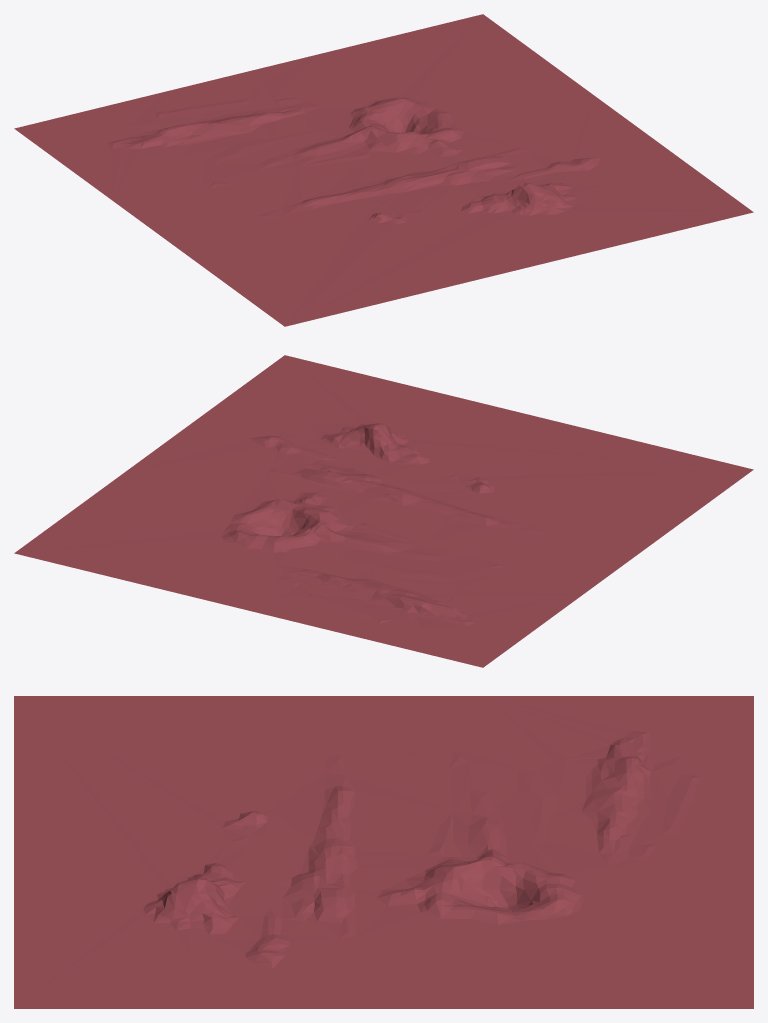
The model's file is GroundDetail1.FBX.
3 views of the same model, one above another, from view 1: azimuth 30°, elevation 25°; view 2: azimuth 150°, elevation 25°; view 3: azimuth 270°, elevation 25° (orthographic). The views are drawn at different scales.
Visible parts, largest first — view 1: terrainsdfsfd; view 2: terrainsdfsfd; view 3: terrainsdfsfd.
Boxes of the visible parts, bbox=[...] form: terrainsdfsfd: bbox=[14, 14, 753, 326]; terrainsdfsfd: bbox=[14, 355, 753, 667]; terrainsdfsfd: bbox=[14, 696, 753, 1008].
Size of the model in its own units: 442 by 26.47 by 442.
